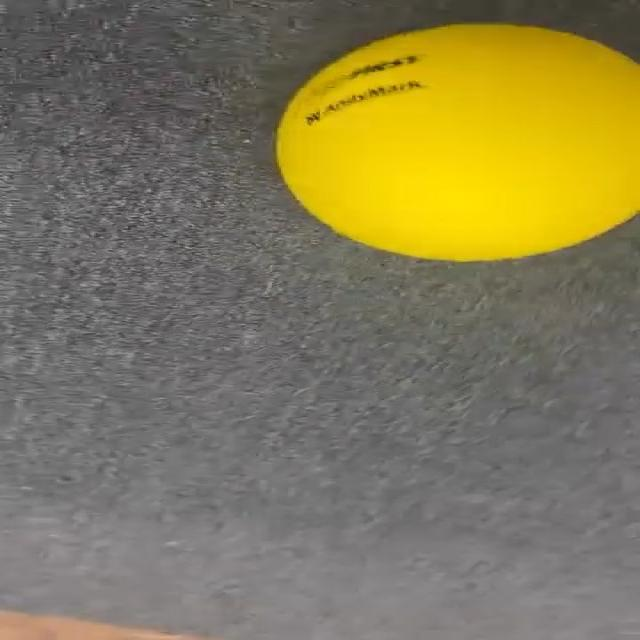Fuels: (277, 24, 638, 260)
